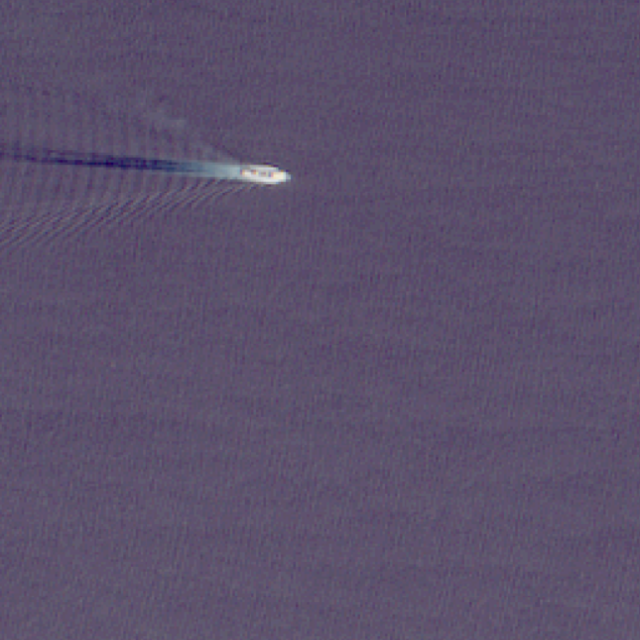wake: (37, 83, 304, 248)
